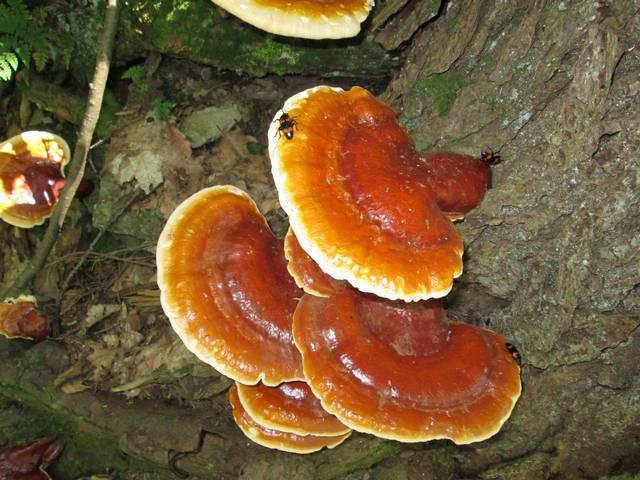Non-edible Mushroom: (146, 183, 515, 475), (266, 83, 493, 302), (0, 128, 71, 228)
